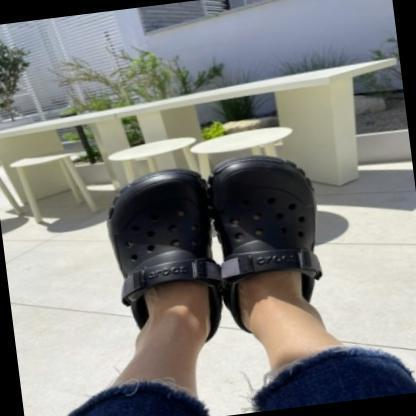no_safety-shoe: (182, 139, 345, 332), (60, 174, 217, 368)
